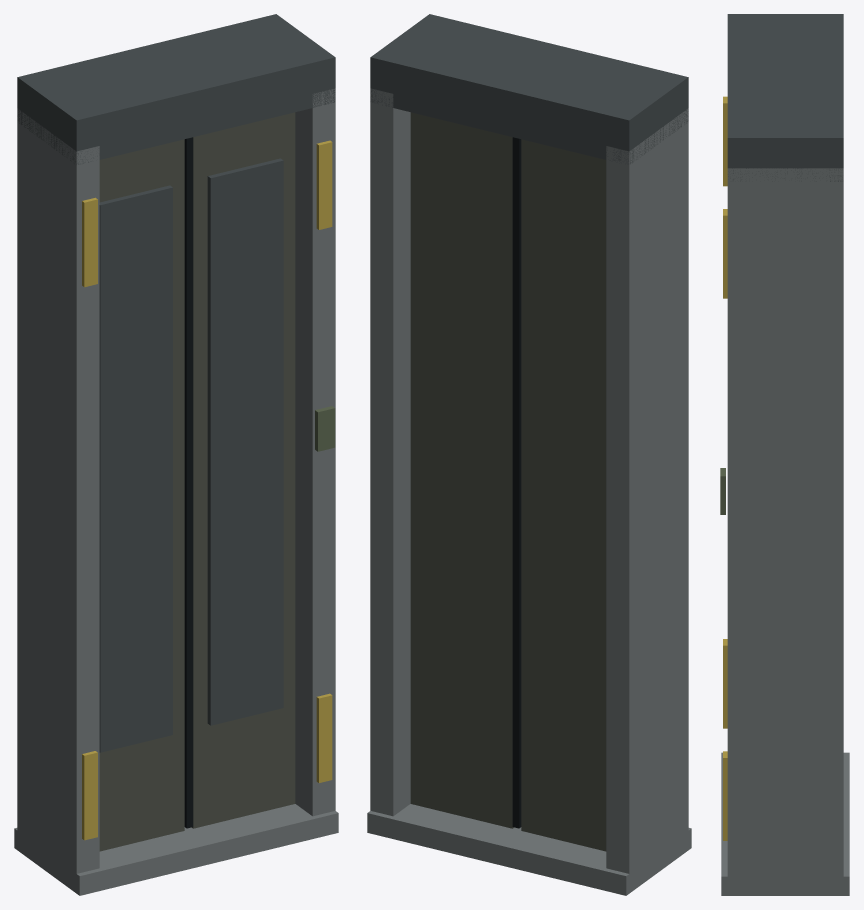
File: CMU3DHybrisaAirlock.glb
The picture shows the model from 3 angles, left to right: view 1: azimuth 30°, elevation 25°; view 2: azimuth 150°, elevation 25°; view 3: azimuth 270°, elevation 25°; orthographic projection.
Visible parts, largest first — view 1: left door jamb, leaf inset right, leaf inset left, right leaf, door lintel, right door jamb, left leaf, threshold, center seam, jamb warning stripe (×4), lock indicator; view 2: right leaf, left door jamb, left leaf, right door jamb, door lintel, threshold, center seam; view 3: right door jamb, door lintel, threshold, jamb warning stripe (×4).
Part boxes in pixels (x1,y1,x2,y2): left door jamb: (17, 108, 99, 893); leaf inset right: (207, 158, 283, 725); leaf inset left: (99, 185, 172, 752); right leaf: (192, 112, 295, 828); door lintel: (17, 14, 335, 164); right door jamb: (295, 88, 335, 816); left leaf: (99, 139, 184, 851); threshold: (14, 804, 338, 895); center seam: (184, 137, 193, 828); jamb warning stripe (×4): (82, 140, 332, 840); lock indicator: (315, 406, 335, 451); right leaf: (410, 112, 513, 828); left door jamb: (606, 108, 688, 880); left leaf: (521, 139, 606, 851); right door jamb: (370, 88, 410, 816); door lintel: (370, 14, 688, 164); threshold: (367, 804, 691, 895); center seam: (512, 137, 521, 828); right door jamb: (727, 168, 843, 895); door lintel: (727, 14, 843, 181); threshold: (721, 752, 849, 895); jamb warning stripe (×4): (723, 96, 727, 840).
Bounding box in the file's own units: 0.96 × 2.74 × 0.424.
